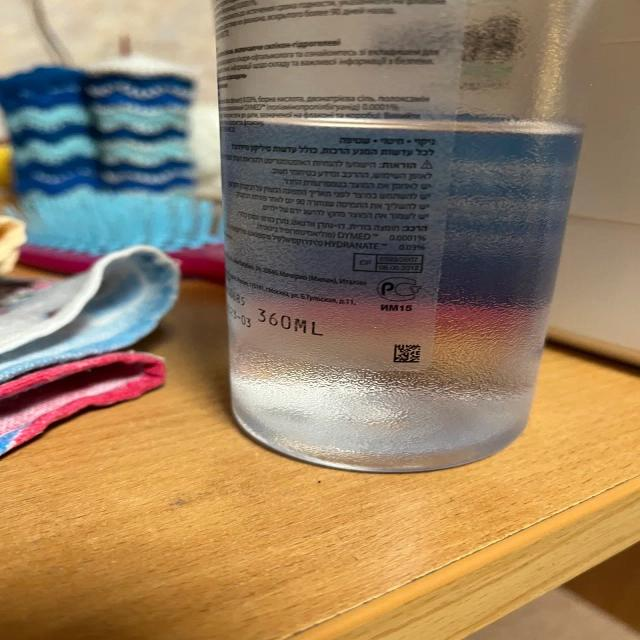datamatrix: (395, 344, 424, 365)
